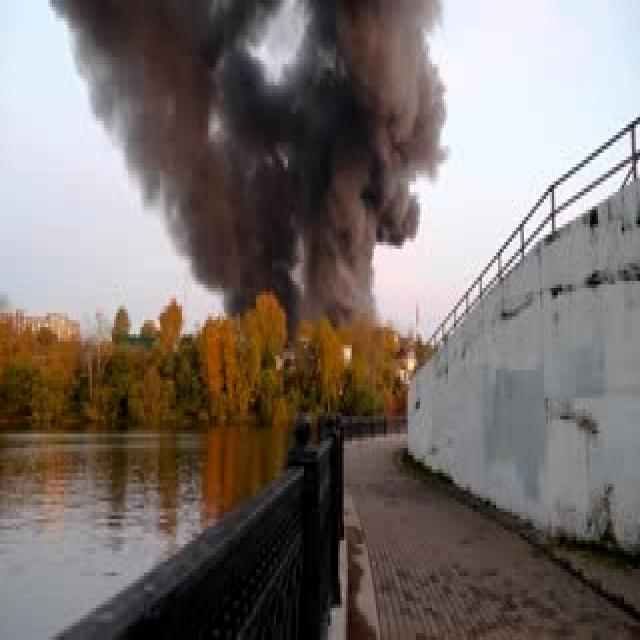Smoke: (88, 0, 448, 334)
